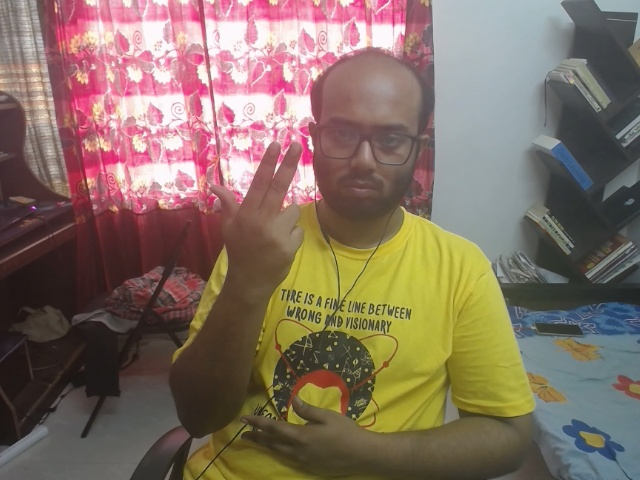eight: (197, 130, 327, 286)
